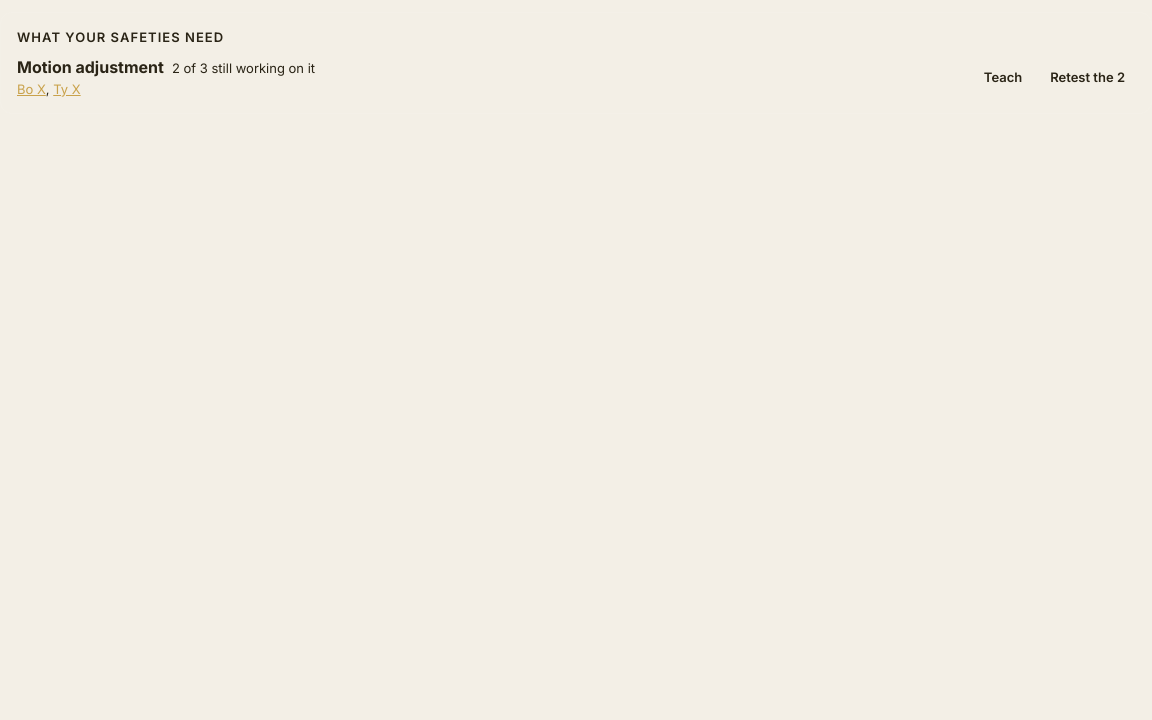
Test: what the group needs › Teach opens right here: the football they missed, who, Retest them
Click the button "Teach". click: (1003, 77)
box: left=974, top=65, right=1032, bottom=89
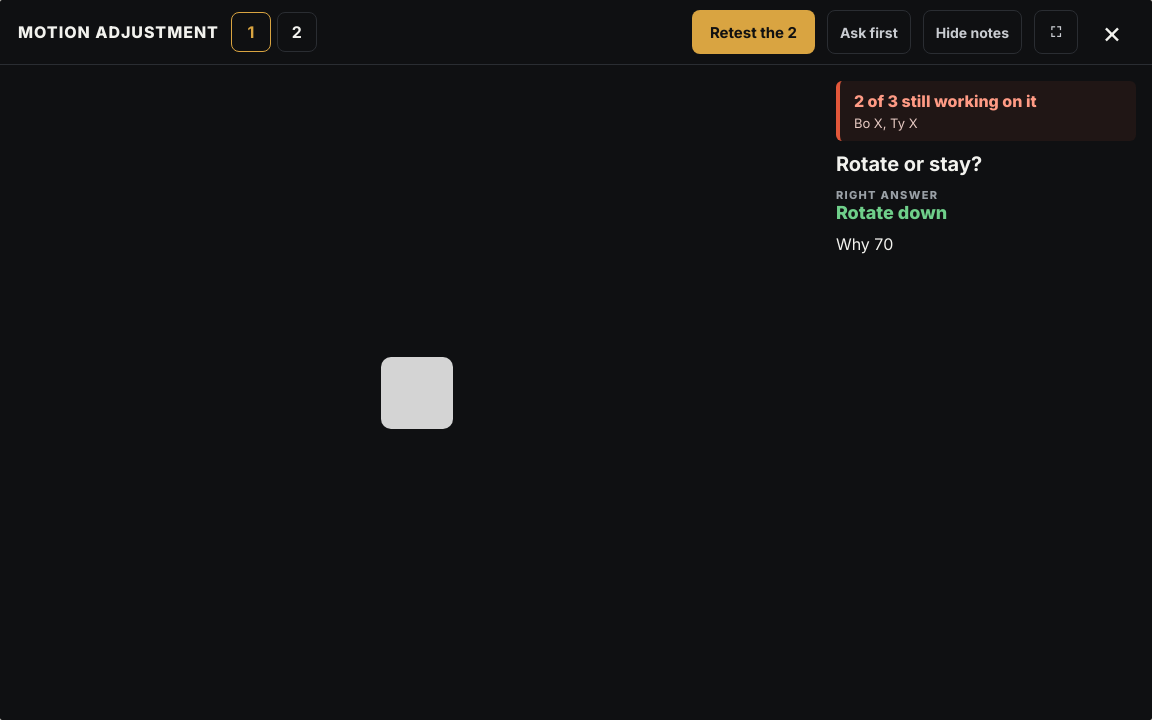
Result: the text "2 of 3 still working on it" is shown at left=854, top=91, right=1037, bottom=111
Result: the text "Bo X, Ty X" is shown at left=854, top=115, right=918, bottom=131
Result: the text "Rotate or stay?" is shown at left=836, top=152, right=982, bottom=176
